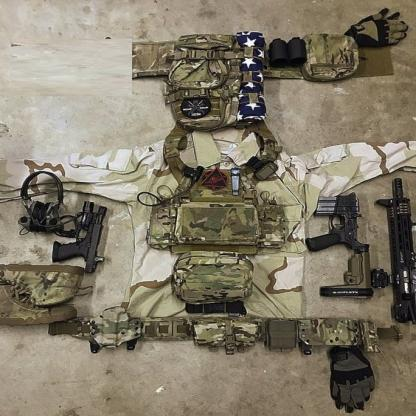Grenade: (287, 36, 308, 66), (268, 38, 286, 66)
Gun: (305, 193, 375, 302), (370, 176, 416, 325)
Pistol: (50, 199, 110, 276)
